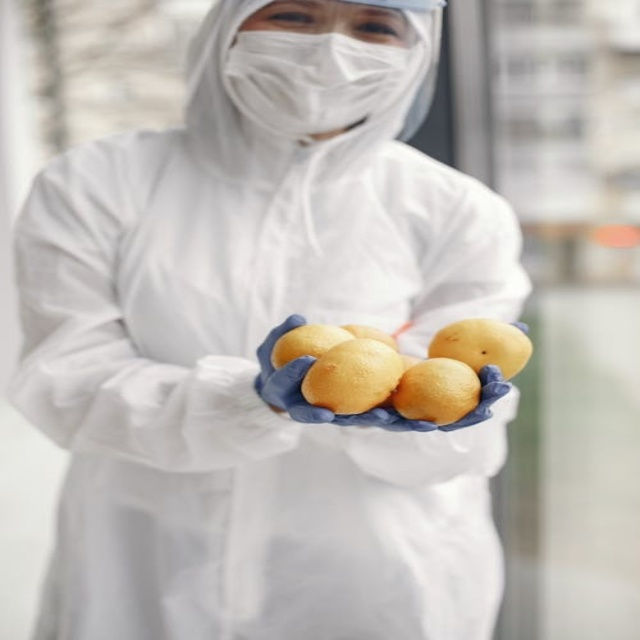Guantes: (350, 362, 511, 432), (254, 314, 335, 422)
Mascara: (221, 22, 419, 141)
Sin_gafas: (248, 2, 413, 45)
